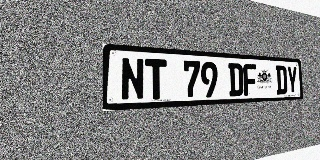7: (182, 60, 201, 98)
9: (201, 61, 218, 98)
D: (228, 63, 243, 96), (276, 65, 287, 94)
F: (243, 64, 257, 96)
N: (120, 57, 145, 101)
T: (145, 58, 167, 100)
Y: (287, 66, 298, 94)
